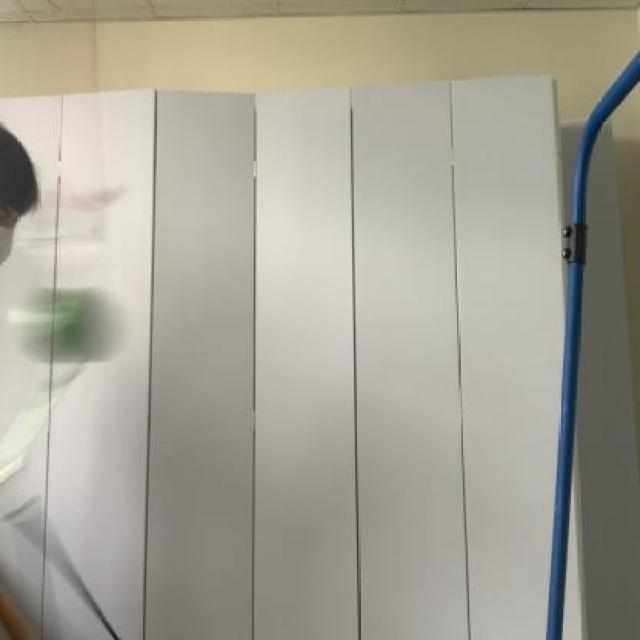baseball: (0, 286, 125, 368)
